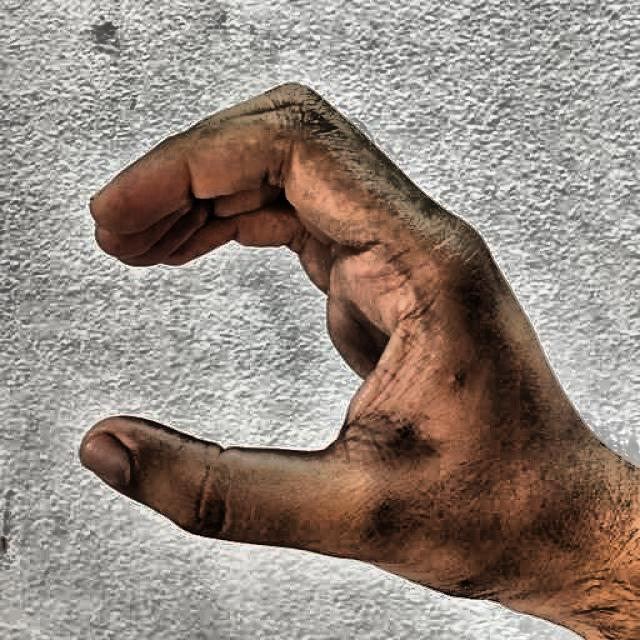Ka: (66, 53, 582, 621)
